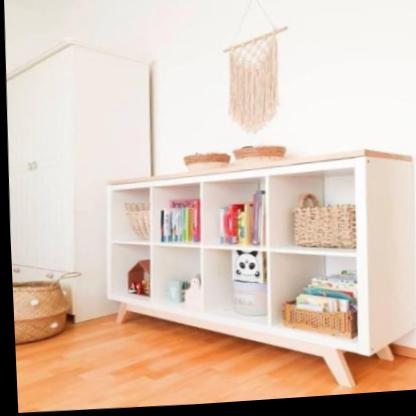Shelf: (88, 140, 416, 405)
